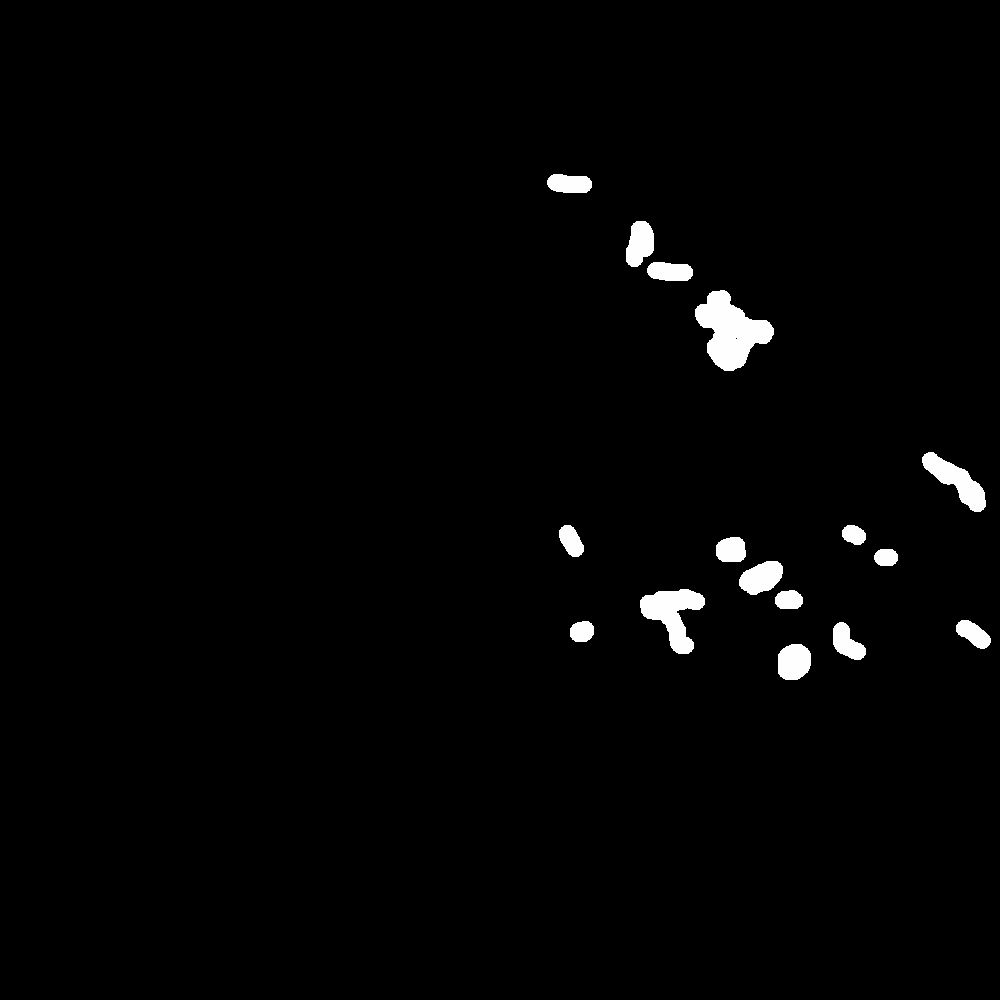illegal: (688, 290, 776, 374), (930, 460, 991, 511), (546, 177, 610, 198)
